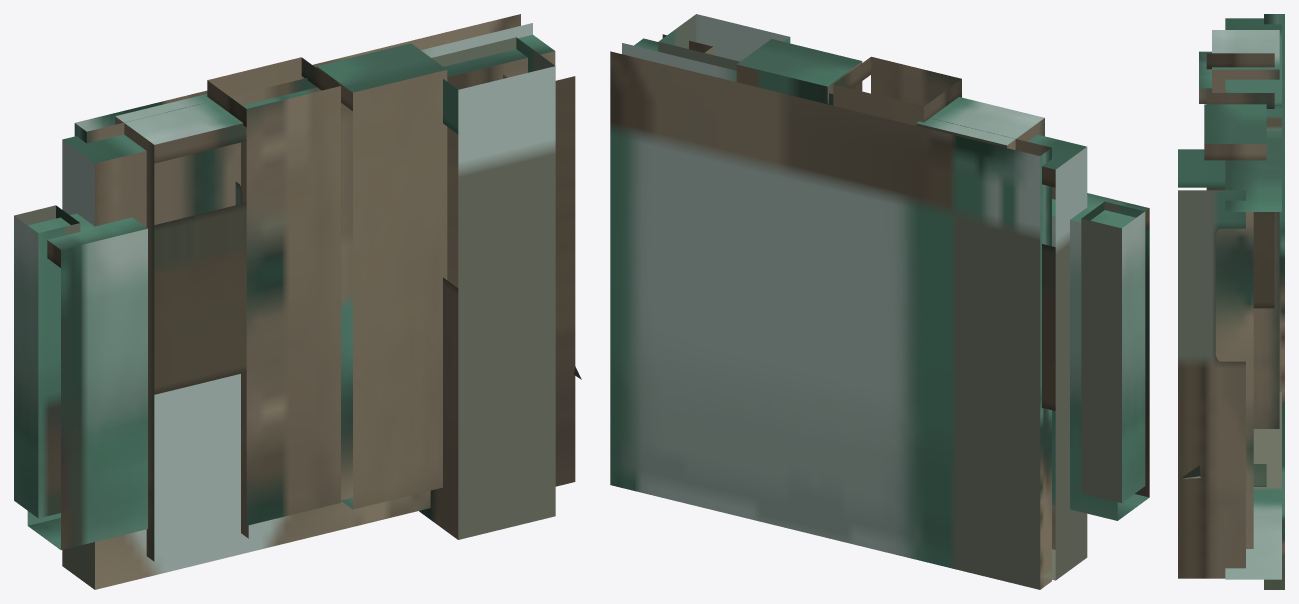
Rendered from section-4.obj.
3 views of the same model, side by side, from view 1: azimuth 30°, elevation 25°; view 2: azimuth 150°, elevation 25°; view 3: azimuth 270°, elevation 25° (orthographic). The views are drawn at different scales.
Bounding box in the file's own units: 0.99 × 0.8504 × 0.205.
